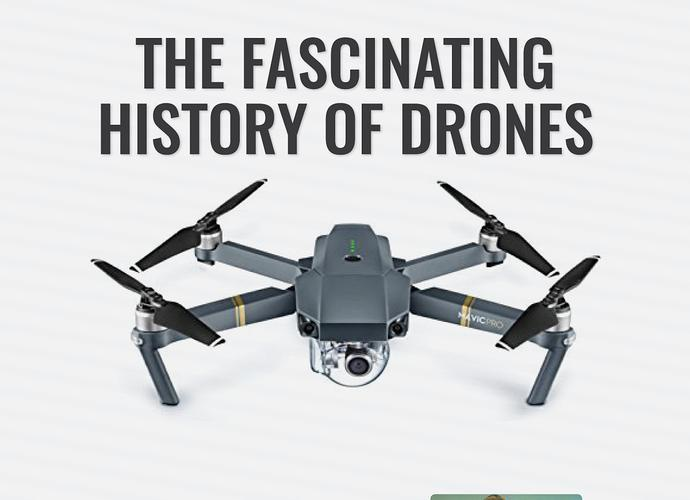drone: (64, 164, 638, 431)
